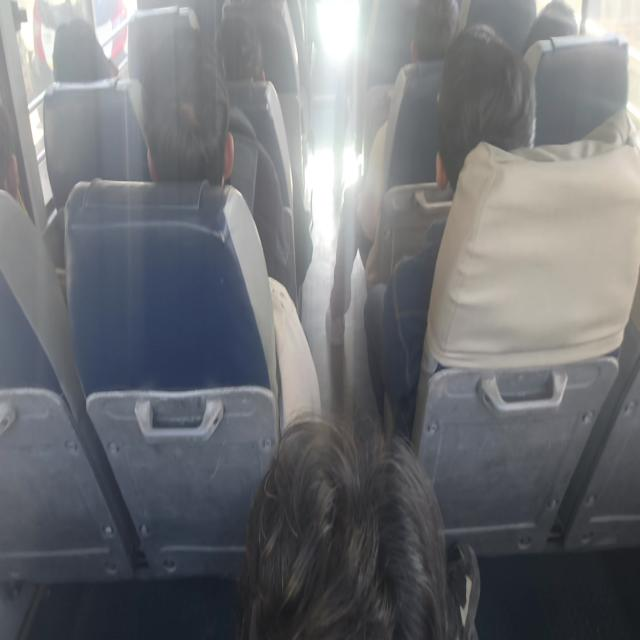person: (244, 412, 464, 640), (144, 48, 238, 226), (435, 29, 527, 181), (42, 0, 108, 90), (210, 19, 271, 102), (410, 0, 479, 62), (532, 0, 584, 52), (0, 100, 23, 203)
